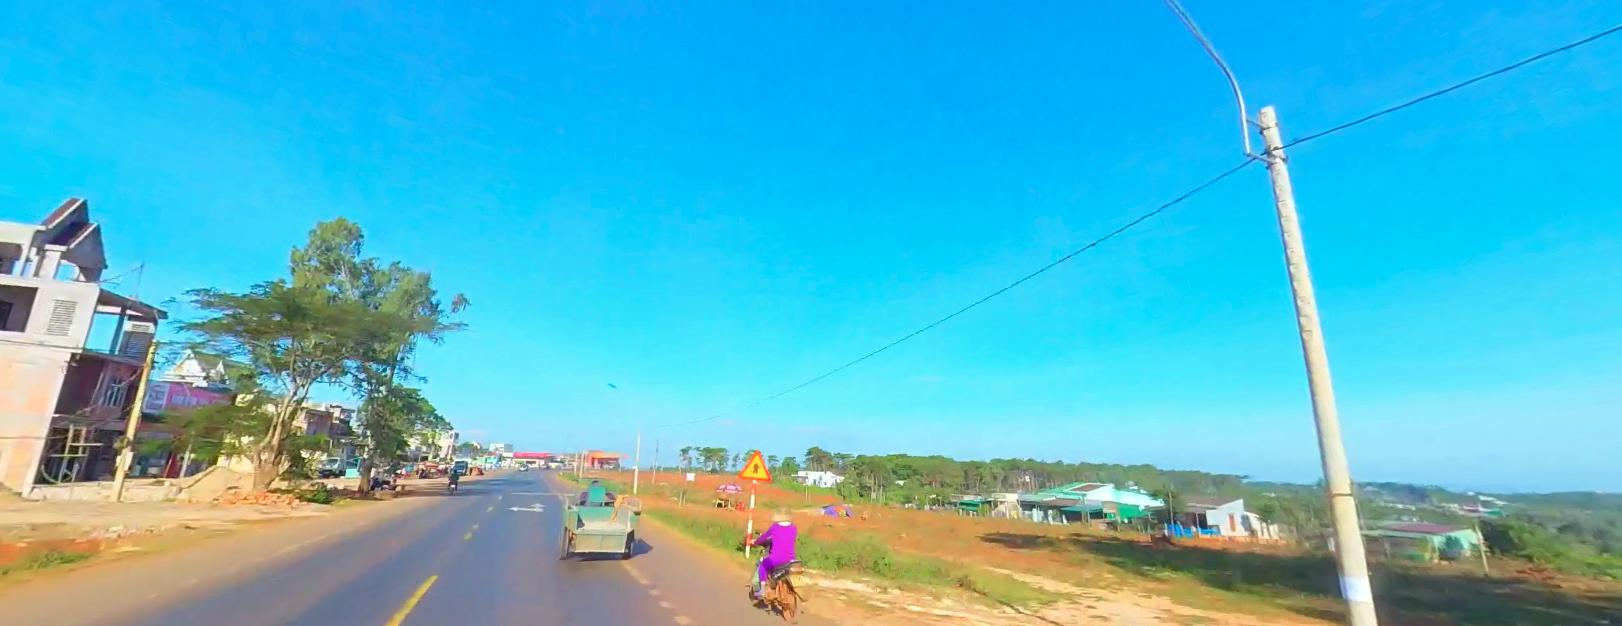Nguy hiem: (739, 450, 771, 481), (741, 449, 770, 480)
